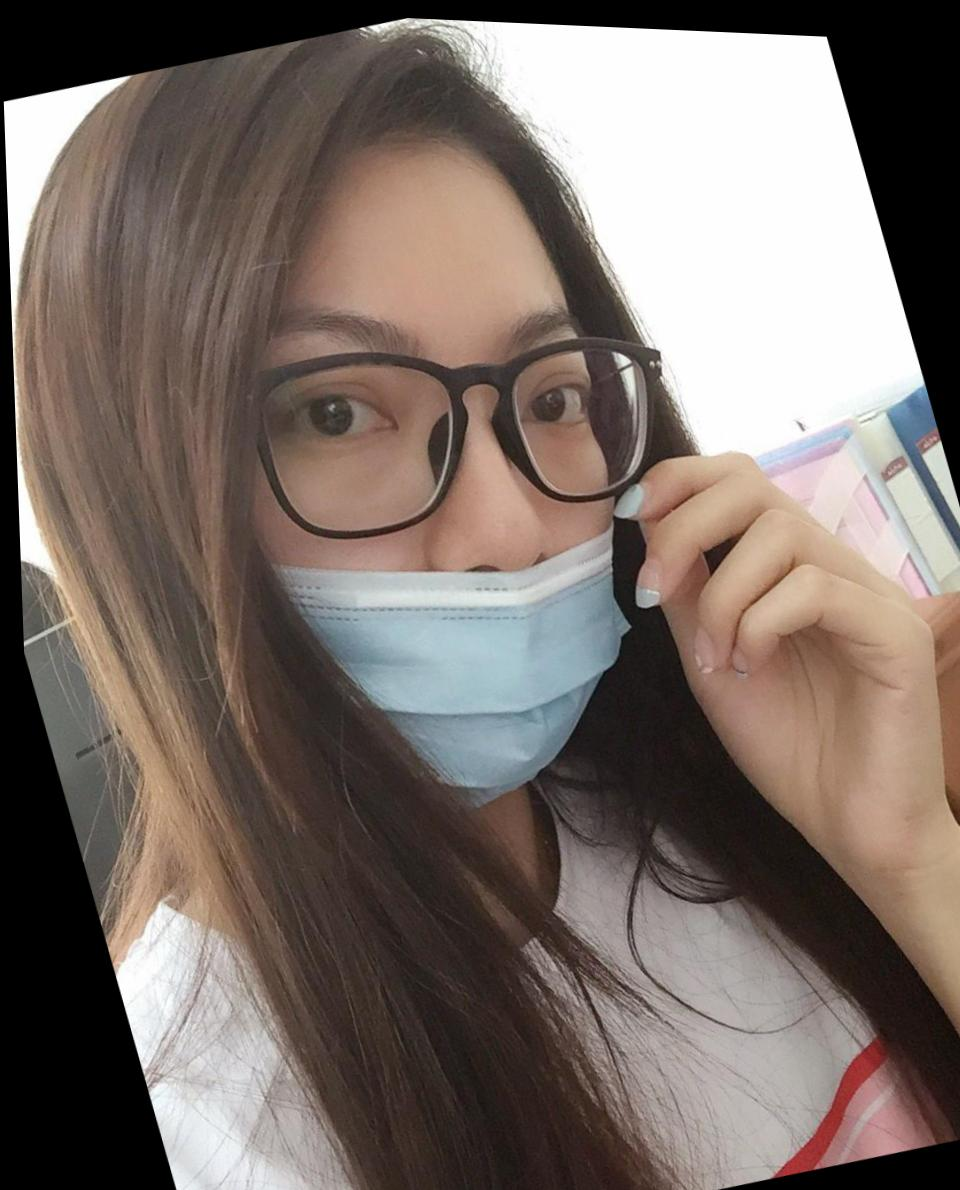WRONG: (118, 183, 730, 862)
